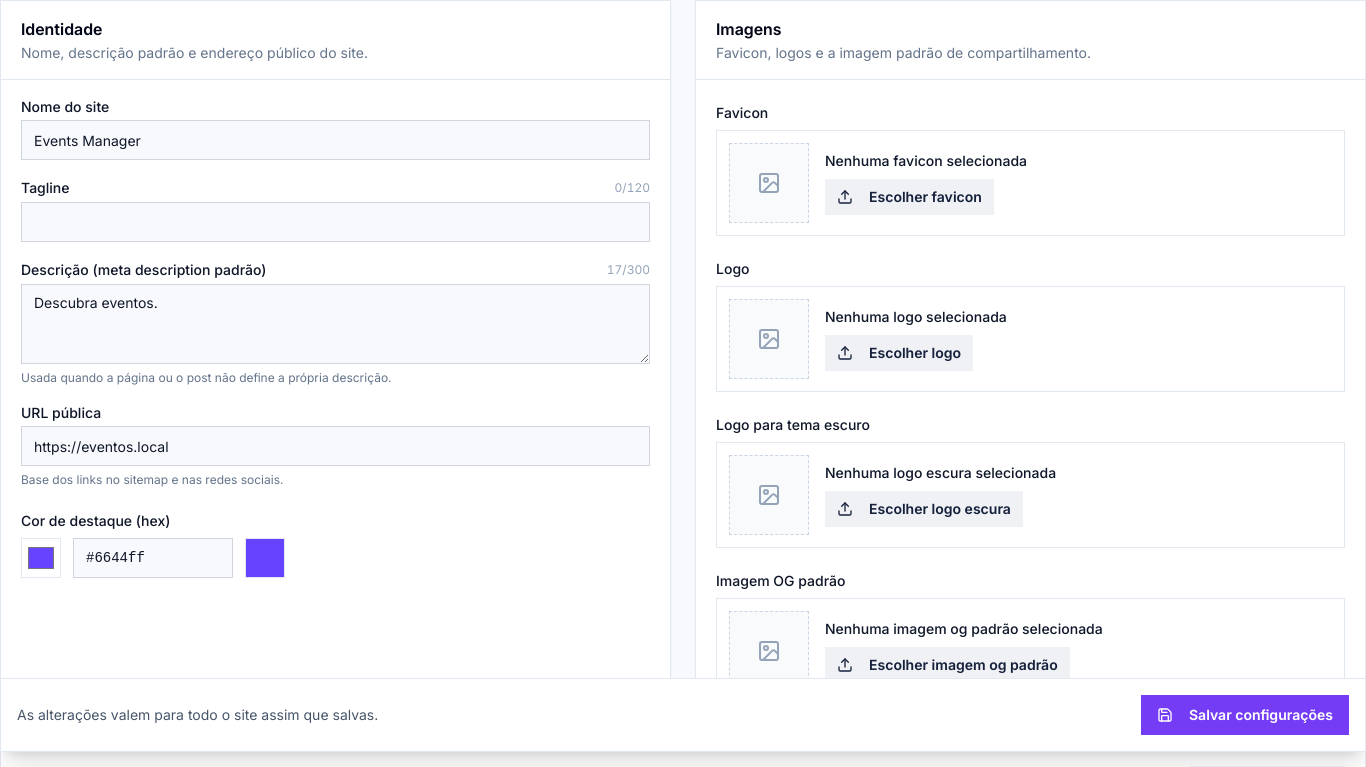
Test: SiteSettingsForm › rejects an accent colour that is not #rrggbb before saving
Replace the text in the field labelled "Cor de destaque (hex)" with "roxo" at [153, 558], box [73,538,233,578]
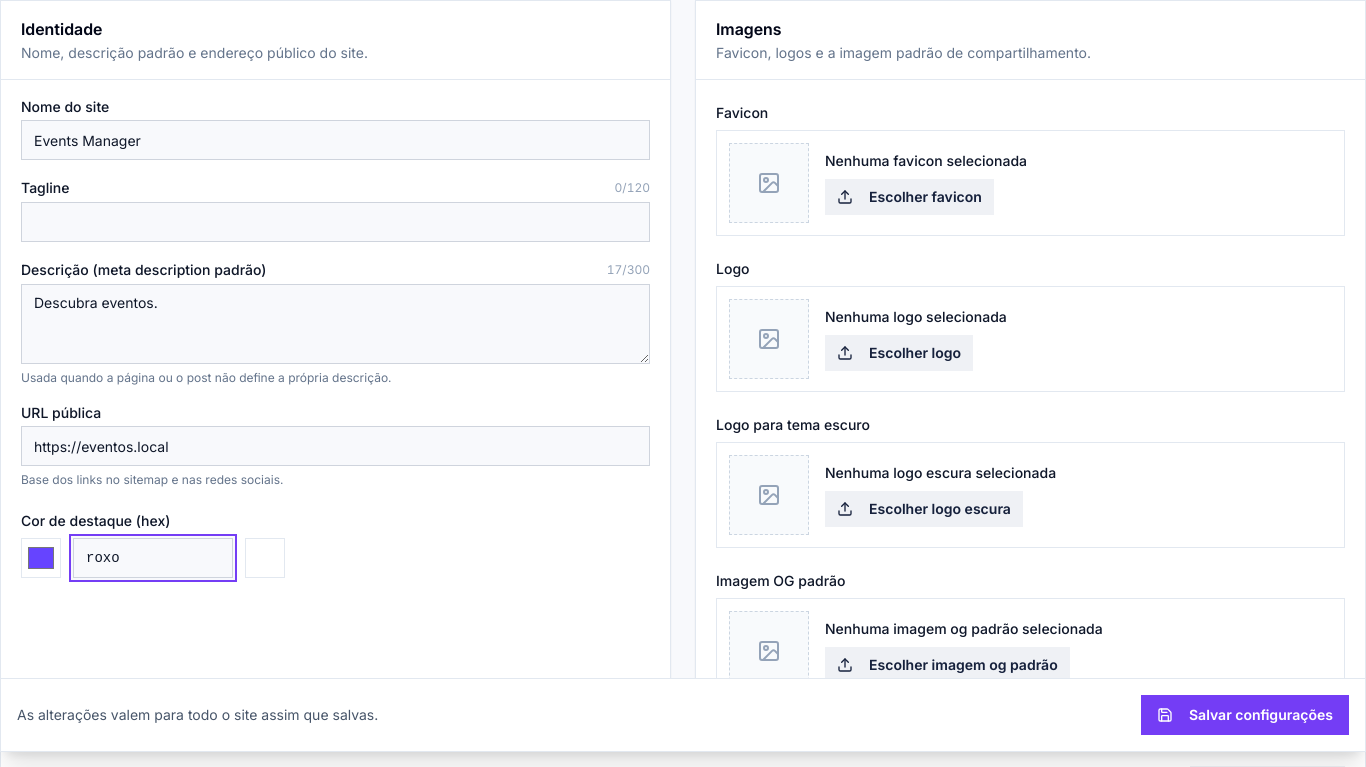
Click the 5th button named "salvar configurações" at [1245, 715], box [1141,695,1349,735]
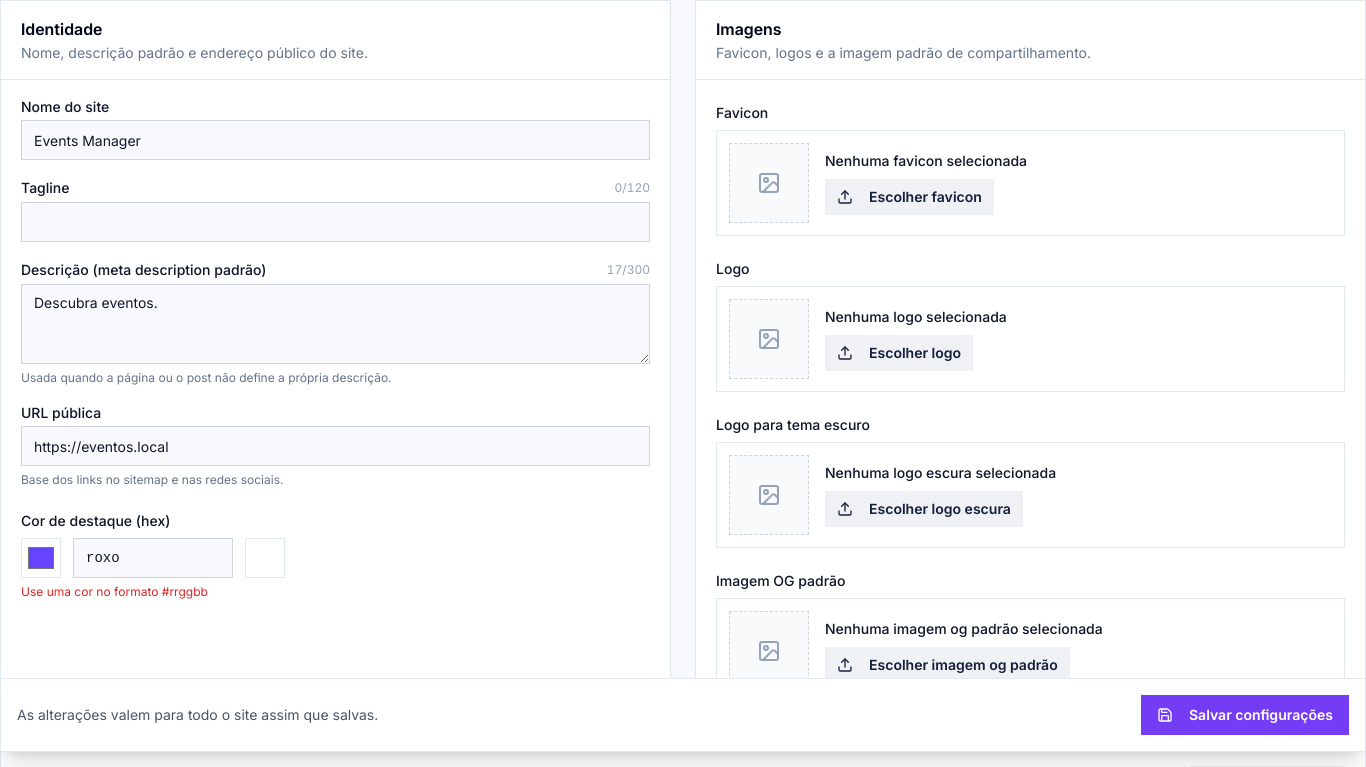
Check: the text "Use uma cor no formato #rrggbb" is shown, box [21,584,208,599]
